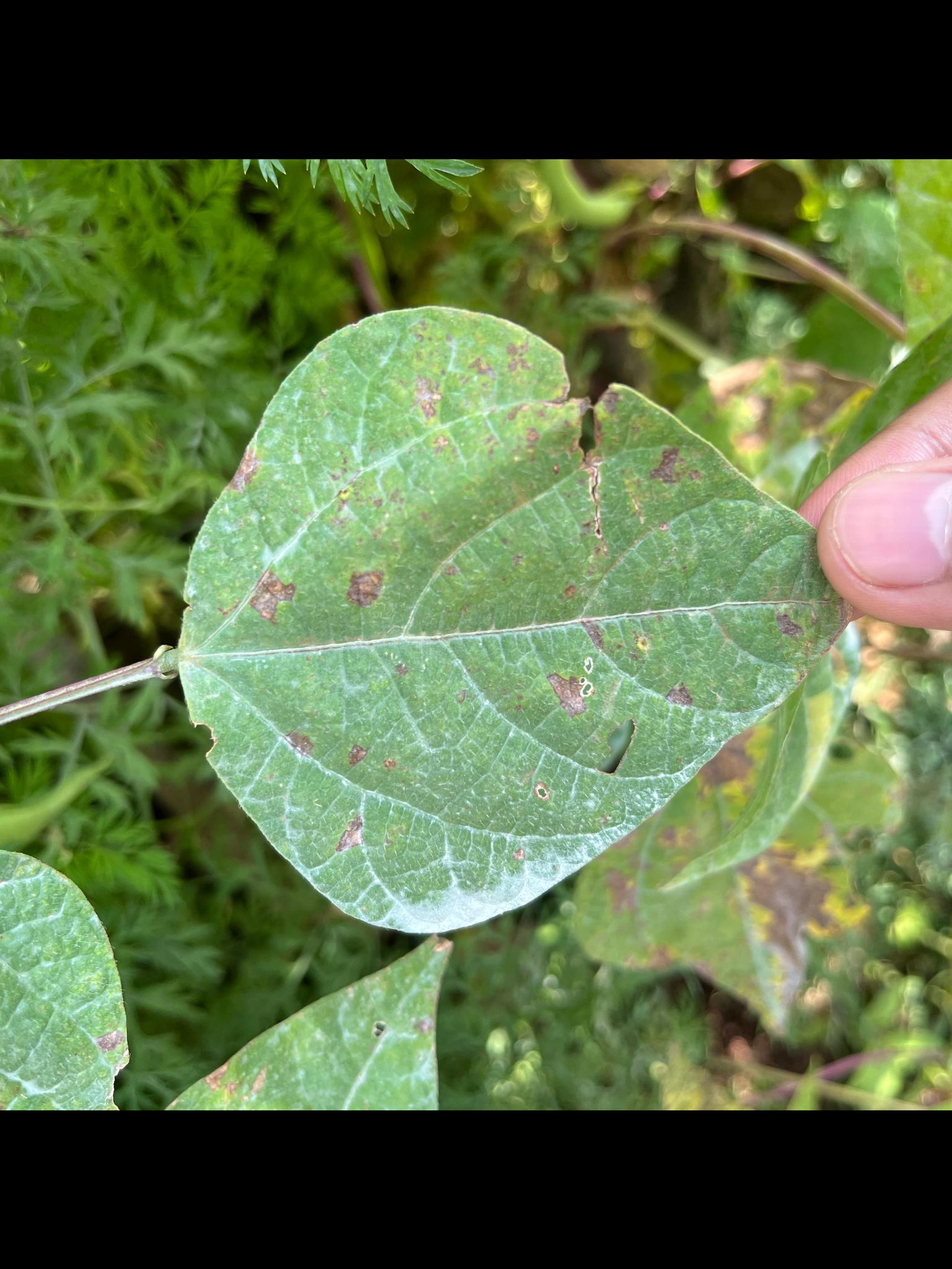embun tepung: (388, 716, 749, 939)
hawar: (395, 299, 567, 501), (530, 567, 707, 746), (631, 416, 721, 517), (320, 538, 400, 638)
mozaik: (569, 372, 611, 497)
